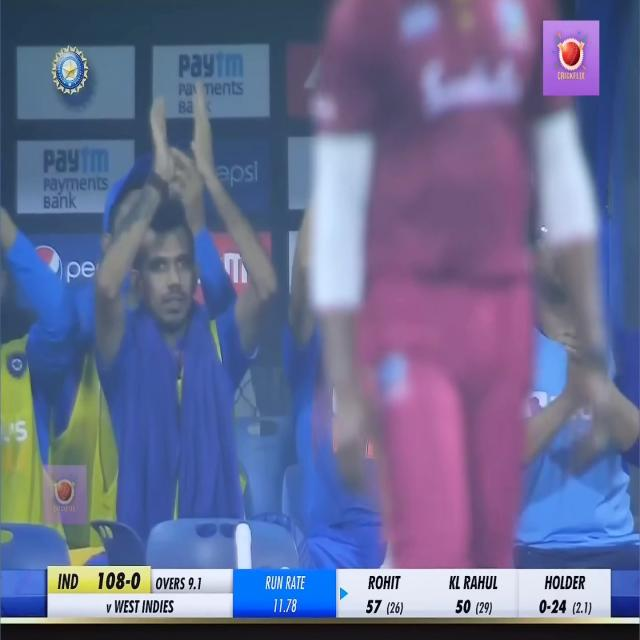fully_visible: (38, 145, 113, 177), (173, 48, 244, 81)
